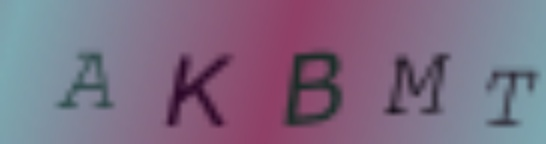A: (52, 48, 118, 111)
B: (282, 49, 346, 128)
K: (160, 49, 239, 131)
M: (383, 50, 451, 118)
T: (482, 68, 543, 131)
